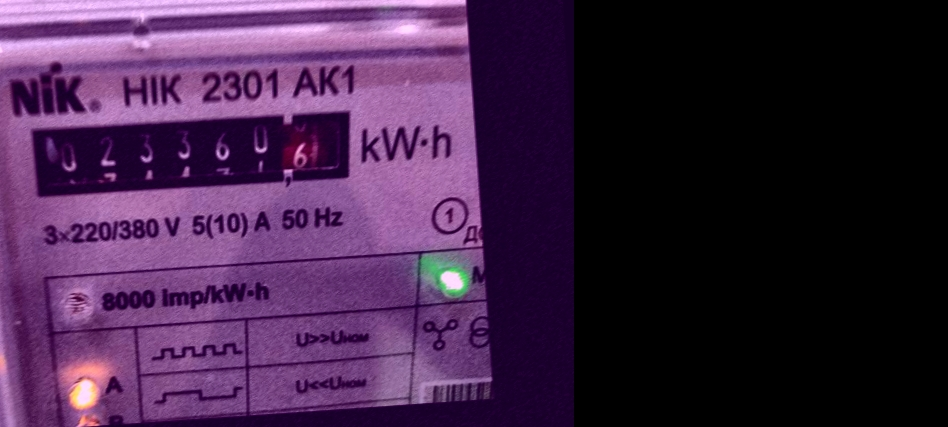0: (54, 136, 79, 172), (247, 119, 271, 155)
2: (94, 131, 118, 168)
3: (133, 129, 155, 165), (172, 125, 192, 160)
6: (209, 125, 231, 161), (288, 135, 308, 169)
screen: (16, 93, 373, 216)
